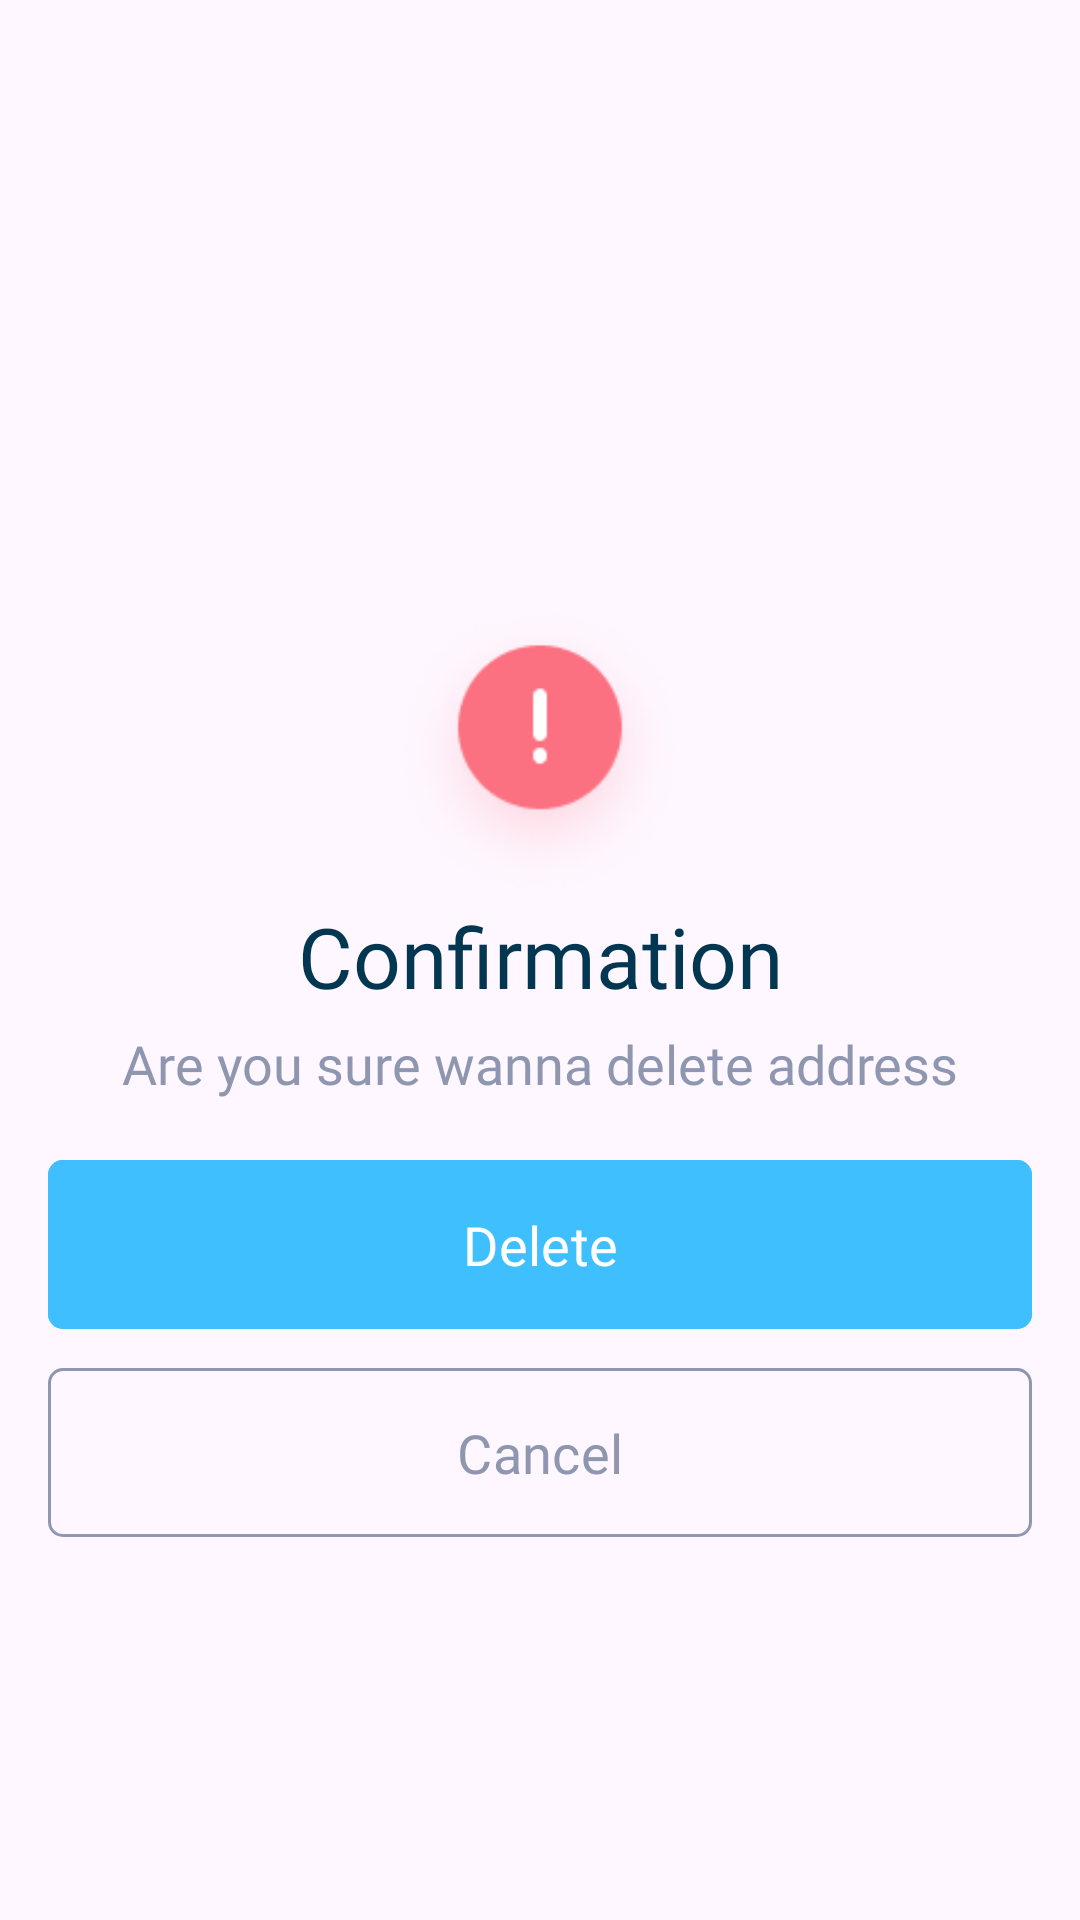

Where to tap for icons on this 1080w x 1920h app screen, as point (x, y):
alert: point (540, 727)
